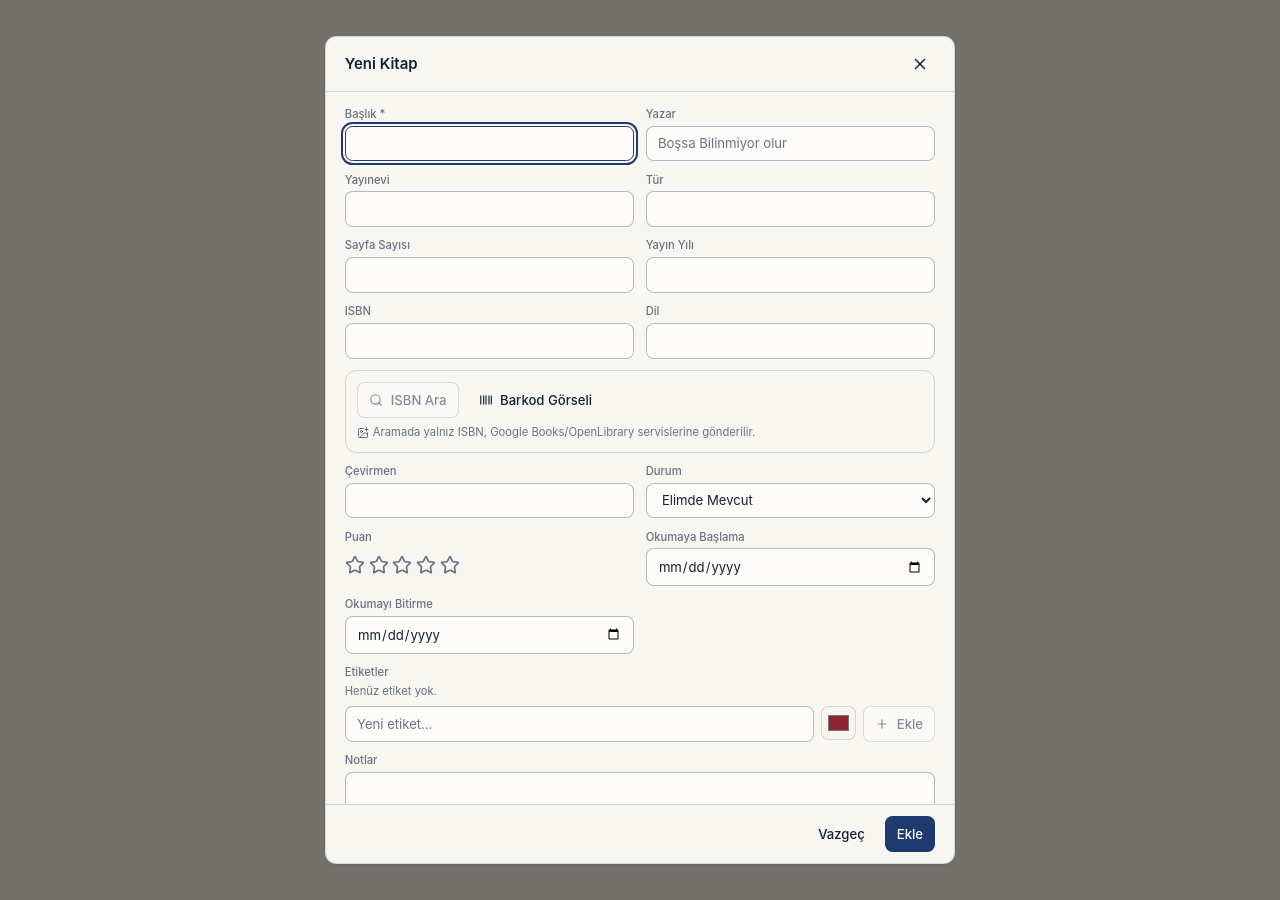
Test case: forms and overlays › keeps an async book form open and shows the save failure
Type "Deneme" into the field labelled "Başlık *" at (490, 143), box [345, 126, 634, 161]
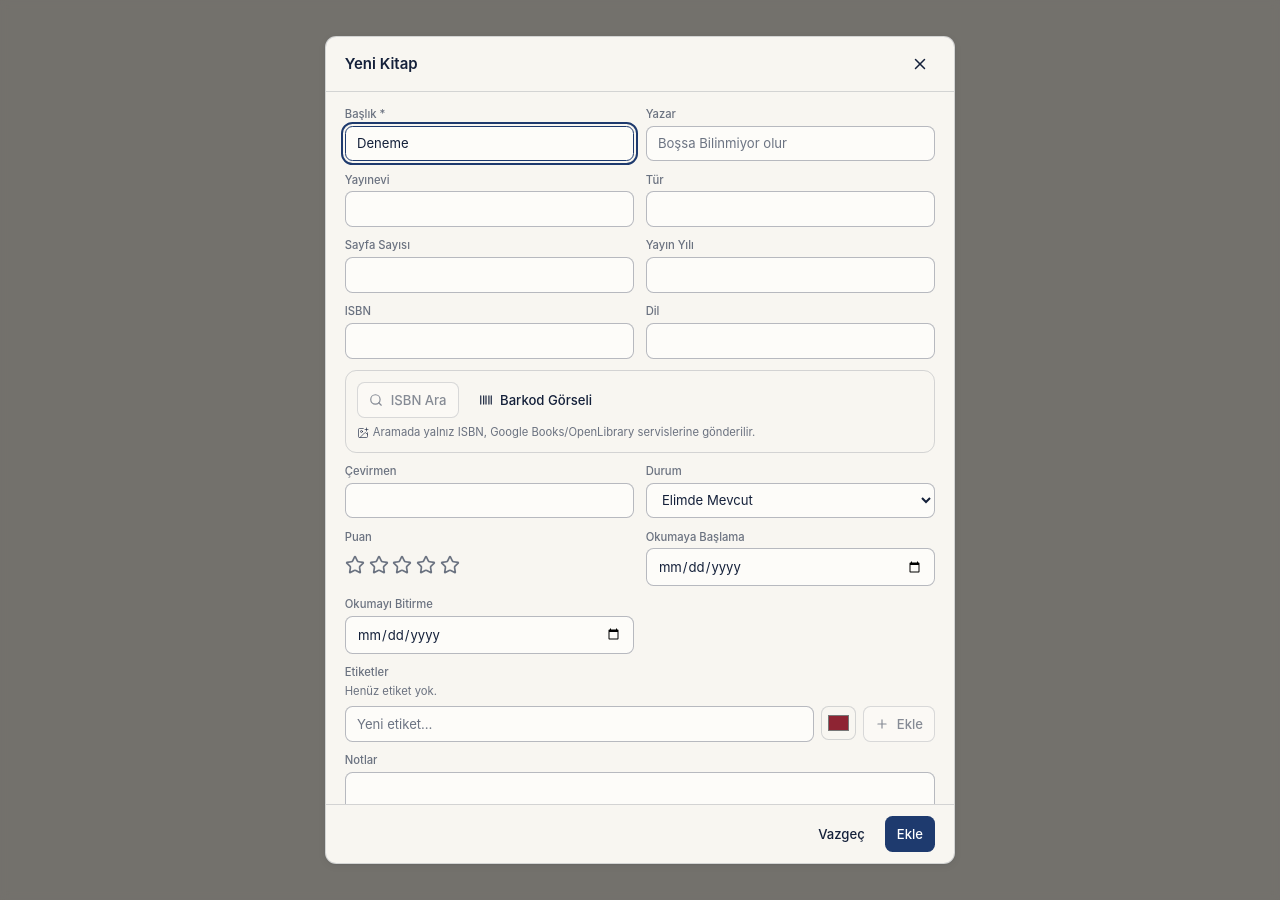
Click the 2nd button "Ekle" at (910, 834), box [884, 816, 935, 852]
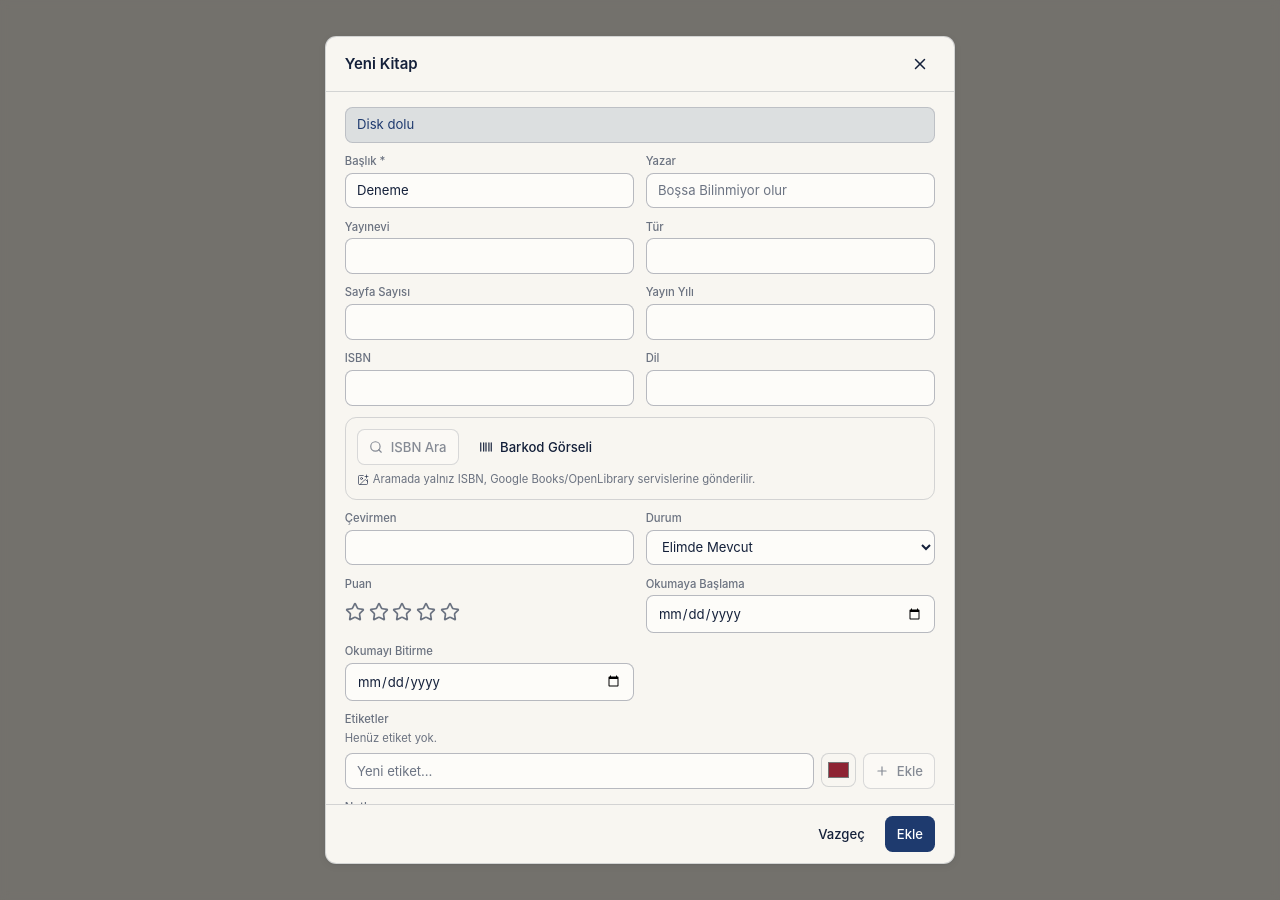
Expected: the dialog is shown, [325, 36, 955, 864]
Result: the message reads "Disk dolu" at [357, 116, 414, 132]
